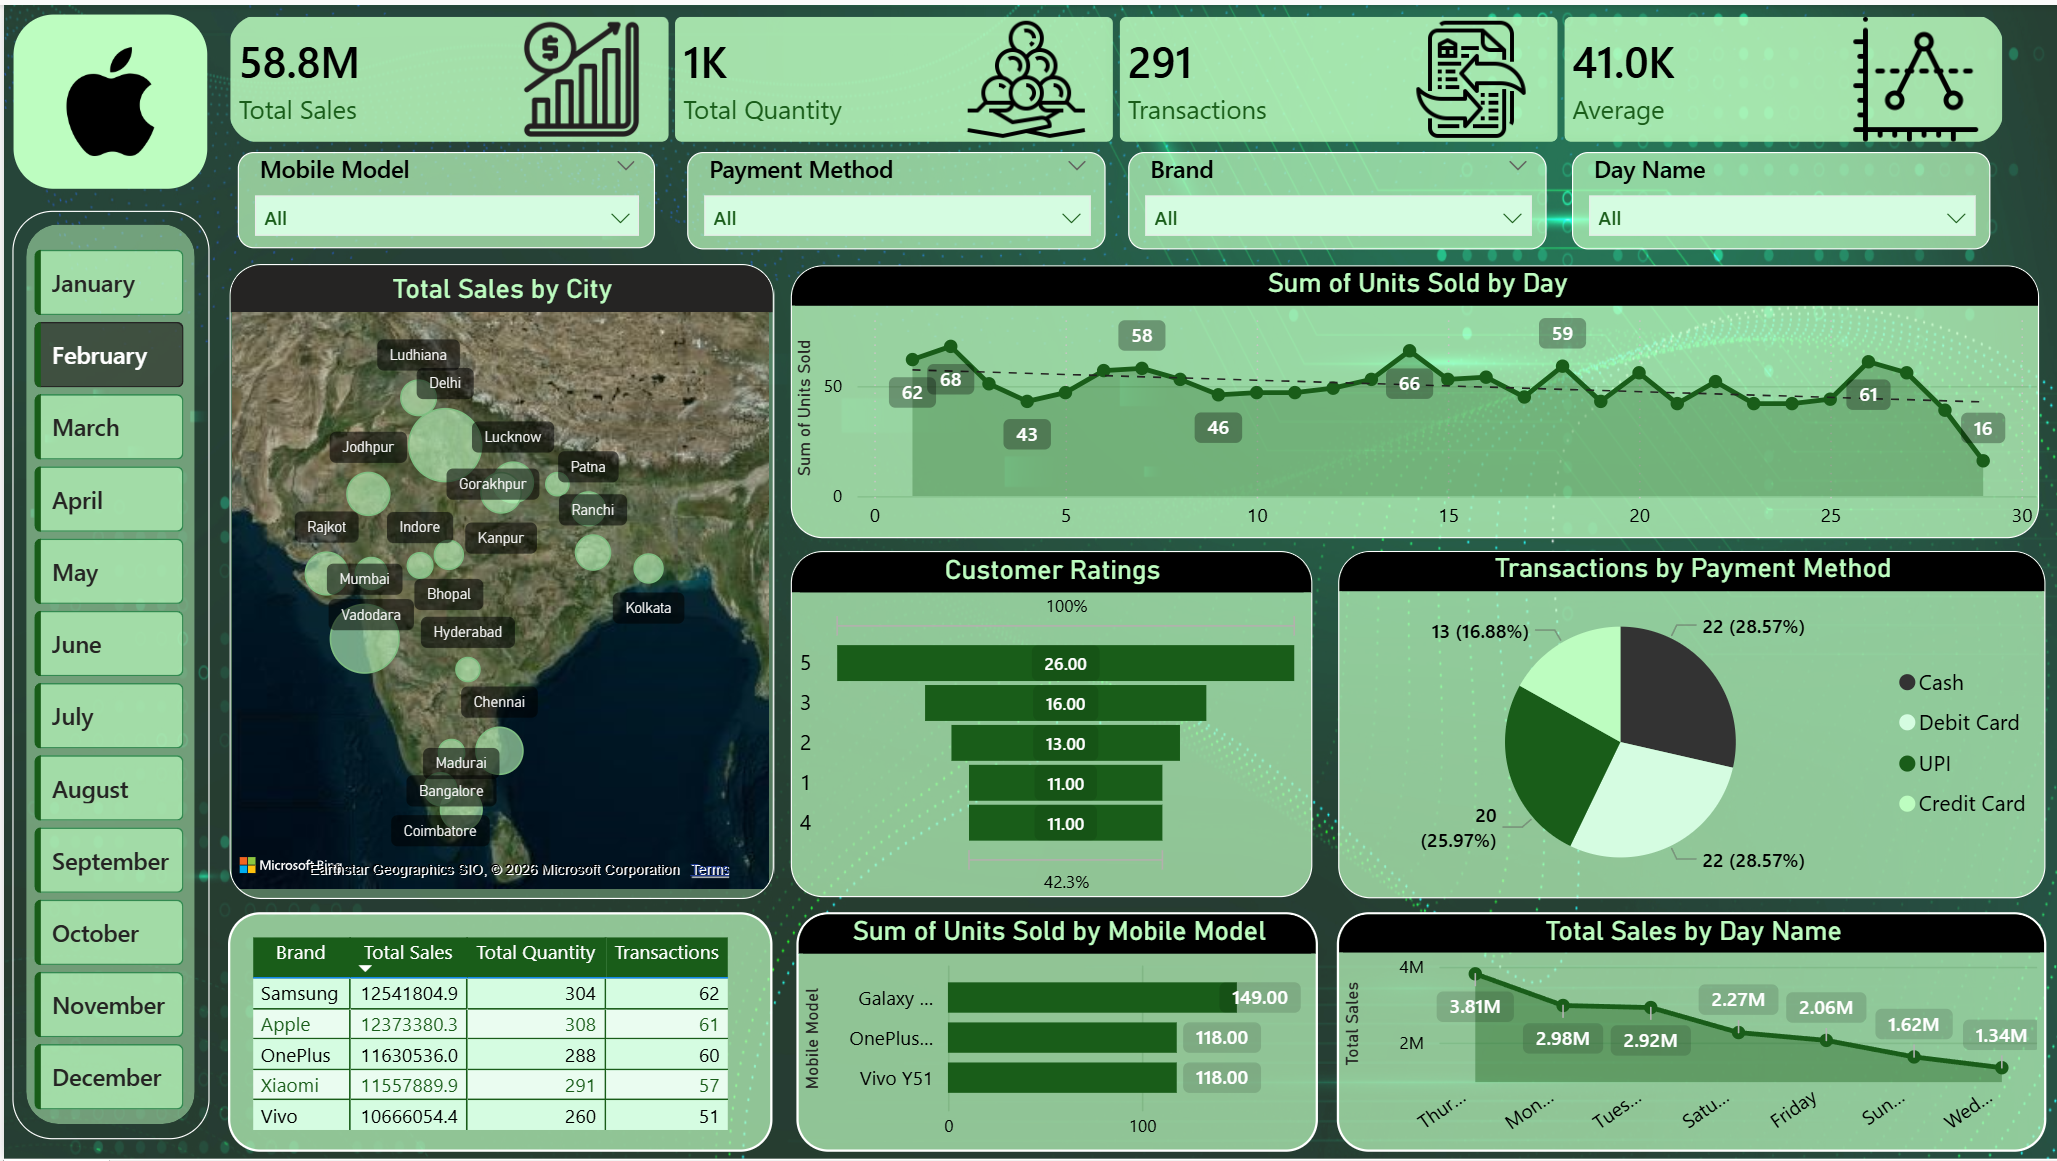

What the dashboard file says about the page in this screenshot:
{"tool":"powerbi","page":{"name":"Page 1","canvas":[1280,720],"ordinal":0},"visuals":[{"type":"image","box":[5,5,122.6,110],"z":0},{"type":"shape","box":[5,128.5,123.1,578.5],"z":1000},{"type":"advancedSlicerVisual","fields":{"Values":["Sales_Data.Date.Variation.Date Hierarchy.Month"]},"box":[14,147.1,103.5,549],"z":2000},{"type":"cardVisual","fields":{"Data":["Sheet1.Total Sales","Sales_Data.Total Quantity","Sales_Data.Transactions","Sales_Data.Average"]},"box":[135,5,1118.8,82],"z":3000},{"type":"map","fields":{"Category":["Sales_Data.City"],"Size":["Sales_Data.Total Sales"]},"box":[140.2,161.6,339,395.6],"z":4000},{"type":"lineChart","fields":{"Category":["Sales_Data.Date.Variation.Date Hierarchy.Month","Sales_Data.Date.Variation.Date Hierarchy.Day"],"Y":["Sum(Sales_Data.Units Sold)"]},"box":[490,162,778,170],"z":5000},{"type":"barChart","fields":{"Category":["Sales_Data.Mobile Model"],"Y":["Sum(Sales_Data.Units Sold)"]},"box":[493.8,565,325,149.2],"z":6000},{"type":"pieChart","fields":{"Category":["Sales_Data.Payment Method"],"Y":["Sales_Data.Transactions"]},"box":[831.1,339.9,441,216.4],"z":7000},{"type":"funnel","title":"Customer Ratings","fields":{"Category":["Sales_Data.Customer Ratings"],"Y":["CountNonNull(Sales_Data.Customer Ratings)"]},"box":[490,340,325,216],"z":8000},{"type":"areaChart","fields":{"Category":["Sales_Data.Day Name"],"Y":["Sales_Data.Total Sales"]},"box":[830.9,565,442,149.2],"z":9000},{"type":"tableEx","fields":{"Values":["Sales_Data.Brand","Sales_Data.Total Sales","Sales_Data.Total Quantity","Sales_Data.Transactions"]},"box":[140,565,338.9,149.2],"z":10000},{"type":"slicer","fields":{"Values":["Sales_Data.Mobile Model"]},"box":[146,92,260,60],"z":11000},{"type":"slicer","fields":{"Values":["Sales_Data.Payment Method"]},"box":[425.3,92,261,60.4],"z":12000},{"type":"slicer","fields":{"Values":["Sales_Data.Brand"]},"box":[700.2,92,261,60.4],"z":13000},{"type":"slicer","fields":{"Values":["Sales_Data.Day Name"]},"box":[976.9,92,261,60.4],"z":14000}]}

Visuals, with their boxes in screenshot pixels (x1, y1, x2, y2), scaled from the page's 1280x720 canvas onto the 2057x1161 screenshot:
image: BBox(8, 8, 205, 185)
shape: BBox(8, 207, 206, 1140)
advancedSlicerVisual - Sales_Data.Date.Variation.Date Hierarchy.Month: BBox(22, 237, 189, 1122)
cardVisual - Sheet1.Total Sales x Sales_Data.Total Quantity: BBox(217, 8, 2015, 140)
map - Sales_Data.City x Sales_Data.Total Sales: BBox(225, 261, 770, 898)
lineChart - Sales_Data.Date.Variation.Date Hierarchy.Month x Sales_Data.Date.Variation.Date Hierarchy.Day: BBox(787, 261, 2038, 535)
barChart - Sales_Data.Mobile Model x Sum(Sales_Data.Units Sold): BBox(794, 911, 1316, 1152)
pieChart - Sales_Data.Payment Method x Sales_Data.Transactions: BBox(1336, 548, 2044, 897)
"Customer Ratings" funnel: BBox(787, 548, 1310, 897)
areaChart - Sales_Data.Day Name x Sales_Data.Total Sales: BBox(1335, 911, 2046, 1152)
tableEx - Sales_Data.Brand x Sales_Data.Total Sales: BBox(225, 911, 770, 1152)
slicer - Sales_Data.Mobile Model: BBox(235, 148, 652, 245)
slicer - Sales_Data.Payment Method: BBox(683, 148, 1103, 246)
slicer - Sales_Data.Brand: BBox(1125, 148, 1545, 246)
slicer - Sales_Data.Day Name: BBox(1570, 148, 1989, 246)
